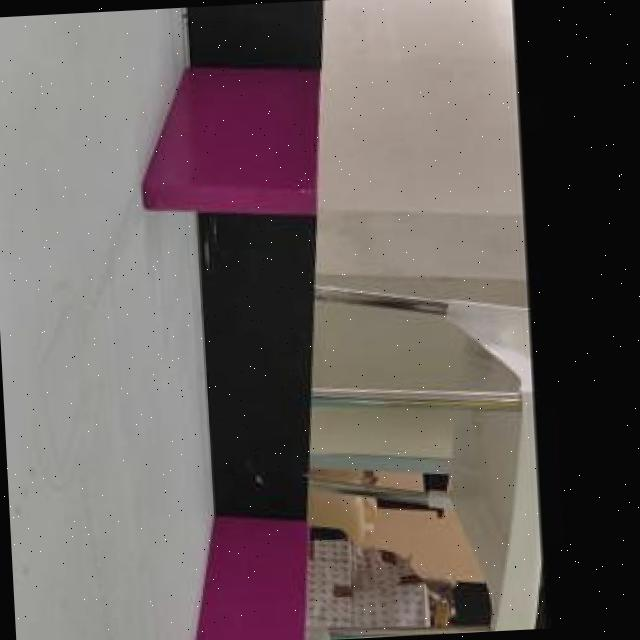xparking: (135, 67, 312, 214), (191, 523, 302, 640)
